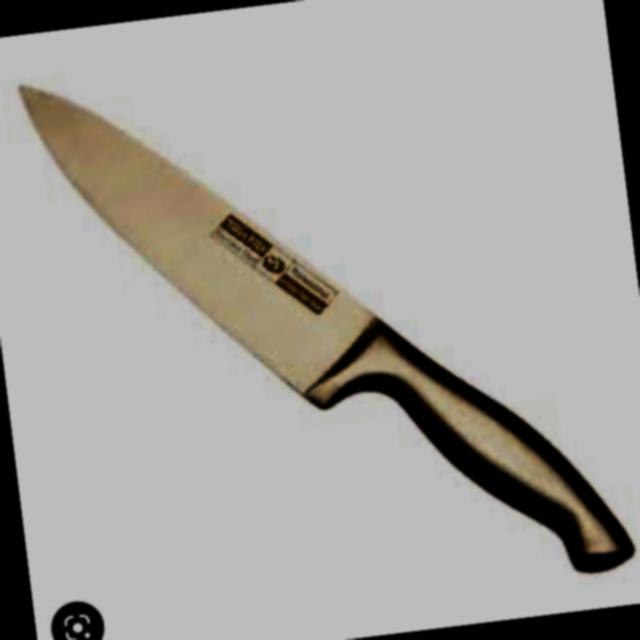knife: (9, 5, 640, 638)
